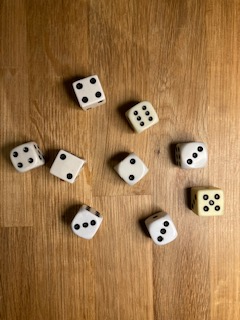five: (190, 186, 226, 216)
four: (72, 73, 107, 110), (8, 141, 47, 173)
six: (124, 99, 160, 135)
three: (143, 210, 179, 246), (70, 204, 104, 241), (175, 141, 209, 170)
two: (48, 148, 88, 184), (112, 152, 150, 186)
